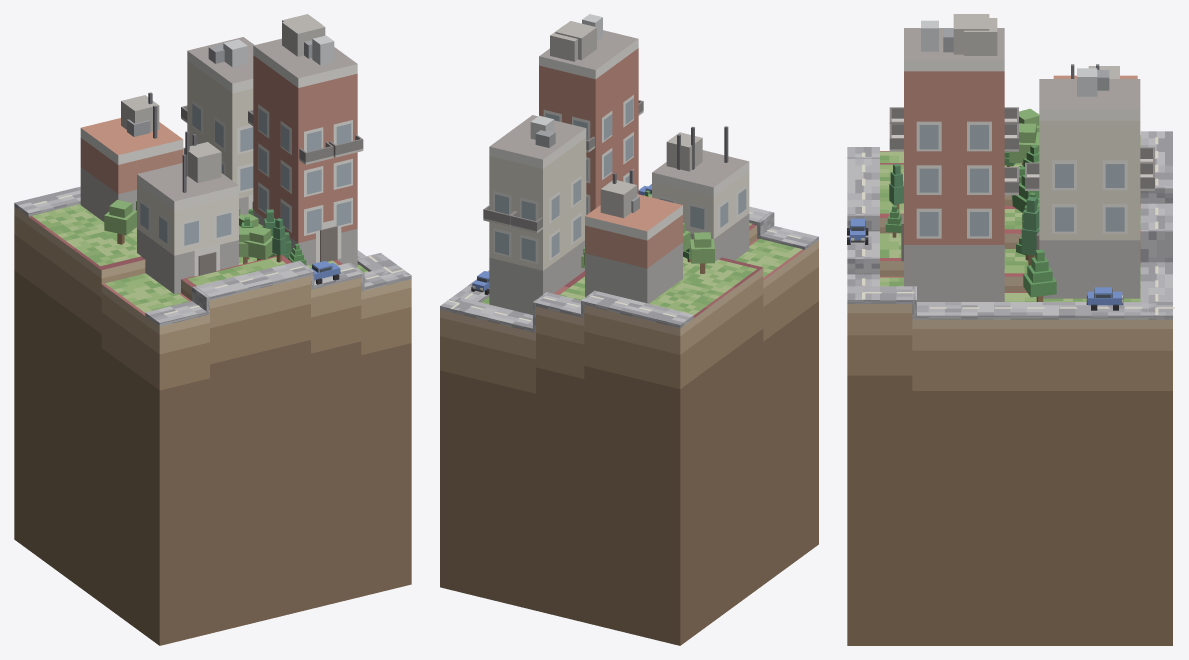
File: block_22_permeable_15.glb
The picture shows the model from 3 angles, left to right: view 1: azimuth 30°, elevation 25°; view 2: azimuth 150°, elevation 25°; view 3: azimuth 270°, elevation 25°; orthographic projection. The views are drawn at different scales.
Parts seen in each view (by area): view 1: Patch_UpperRight_b21_PP, ResidBldgs_b22_PP, Roads_UpperRight_b21_PP, Green_UpperRight_b22_PP, URTree_22_2_PP, URTree_22_7_PP; view 2: Patch_UpperRight_b21_PP, ResidBldgs_b22_PP, Roads_UpperRight_b21_PP, Green_UpperRight_b22_PP, URTree_22_2_PP; view 3: Patch_UpperRight_b21_PP, ResidBldgs_b22_PP, Roads_UpperRight_b21_PP, Green_UpperRight_b22_PP, URTree_22_21_PP, URTree_22_17_PP, RoadMarks_UpperRight_b21_PP, URTree_22_4_PP, RCar_12_PP, URTree_22_11_PP, RCar_8_PP.
Boxes of the visible parts, bbox=[...] form: Patch_UpperRight_b21_PP: bbox=[14, 206, 411, 645]; ResidBldgs_b22_PP: bbox=[80, 14, 363, 293]; Roads_UpperRight_b21_PP: bbox=[14, 186, 411, 326]; Green_UpperRight_b22_PP: bbox=[31, 204, 368, 312]; URTree_22_2_PP: bbox=[104, 199, 136, 244]; URTree_22_7_PP: bbox=[244, 226, 273, 260]; Patch_UpperRight_b21_PP: bbox=[440, 224, 818, 645]; ResidBldgs_b22_PP: bbox=[483, 14, 749, 314]; Roads_UpperRight_b21_PP: bbox=[440, 206, 818, 332]; Green_UpperRight_b22_PP: bbox=[481, 223, 802, 314]; URTree_22_2_PP: bbox=[690, 232, 714, 273]; Patch_UpperRight_b21_PP: bbox=[847, 135, 1172, 645]; ResidBldgs_b22_PP: bbox=[889, 14, 1154, 301]; Roads_UpperRight_b21_PP: bbox=[847, 131, 1172, 319]; Green_UpperRight_b22_PP: bbox=[880, 136, 1140, 301]; URTree_22_21_PP: bbox=[1023, 249, 1056, 301]; URTree_22_17_PP: bbox=[1021, 196, 1039, 265]; RoadMarks_UpperRight_b21_PP: bbox=[862, 137, 1174, 314]; URTree_22_4_PP: bbox=[1009, 123, 1039, 164]; RCar_12_PP: bbox=[1086, 287, 1123, 310]; URTree_22_11_PP: bbox=[889, 163, 903, 209]; RCar_8_PP: bbox=[847, 218, 868, 244].
Bounding box in the file's own units: 9.5 × 19.17 × 9.55.
